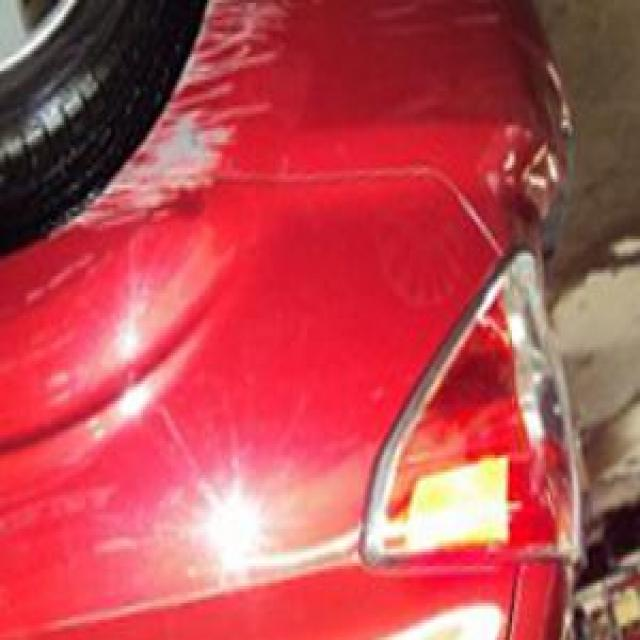scratch: (51, 8, 305, 256)
